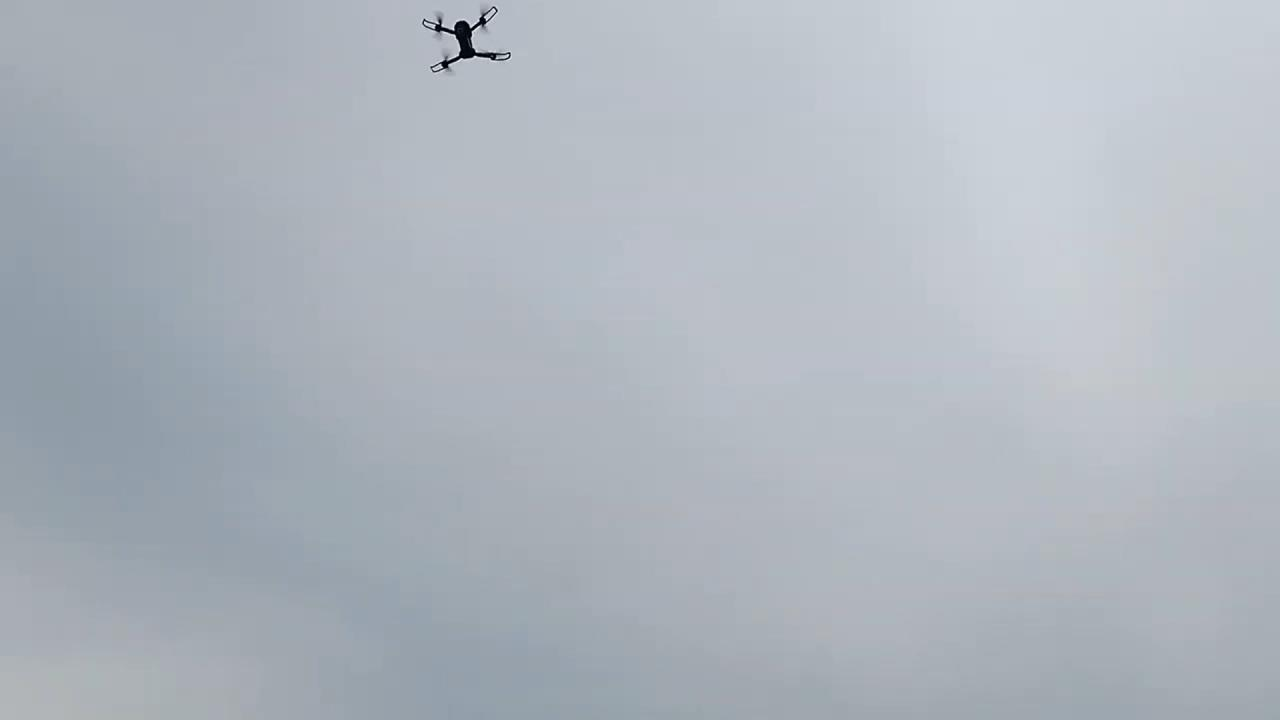Drone: (403, 0, 524, 86)
